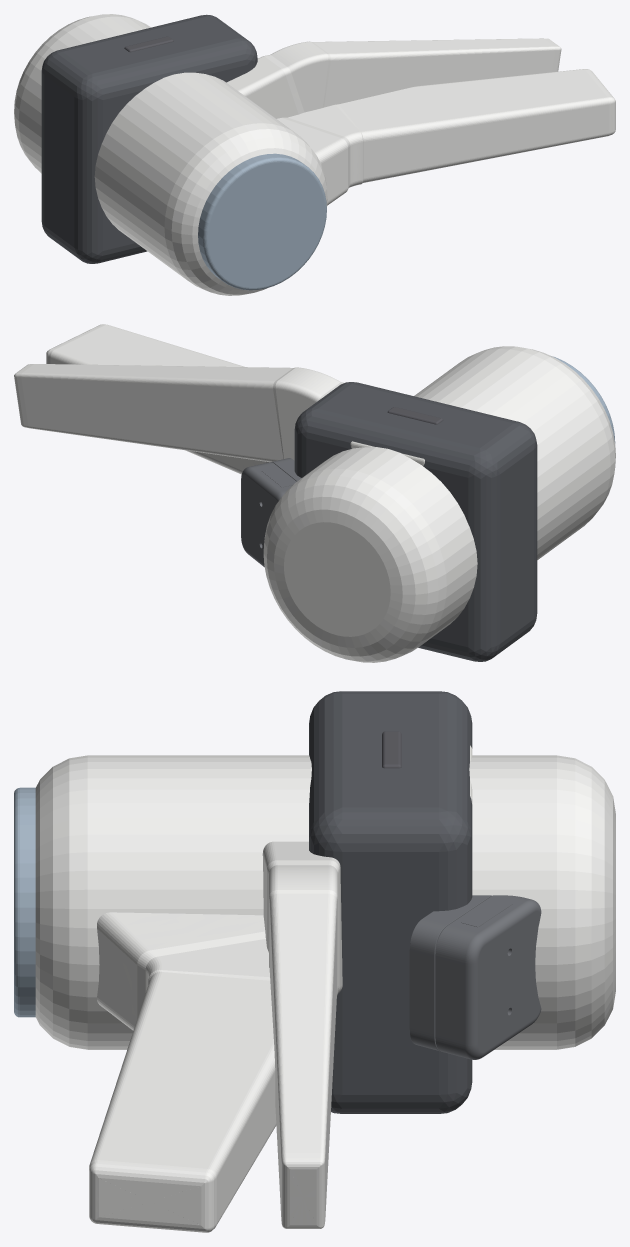
File: arm.glb
3 views of the same model, one above another, from view 1: azimuth 30°, elevation 25°; view 2: azimuth 150°, elevation 25°; view 3: azimuth 270°, elevation 25° (orthographic). The views are drawn at different scales.
Parts seen in each view (by area): view 1: b3, b1, b4; view 2: b3, b1, b4, b9; view 3: b3, b1, b4, b9.
Boxes of the visible parts, <box> form: b3: <box>14,14,615,295</box>; b1: <box>41,14,257,263</box>; b4: <box>226,38,561,118</box>; b3: <box>46,324,615,662</box>; b1: <box>294,382,537,661</box>; b4: <box>14,364,343,462</box>; b9: <box>241,407,443,566</box>; b3: <box>14,755,615,1232</box>; b1: <box>309,691,472,1113</box>; b4: <box>262,841,342,1228</box>; b9: <box>382,731,541,1059</box>.
Bounding box in the file's own units: 0.2706 × 0.1043 × 0.184.
